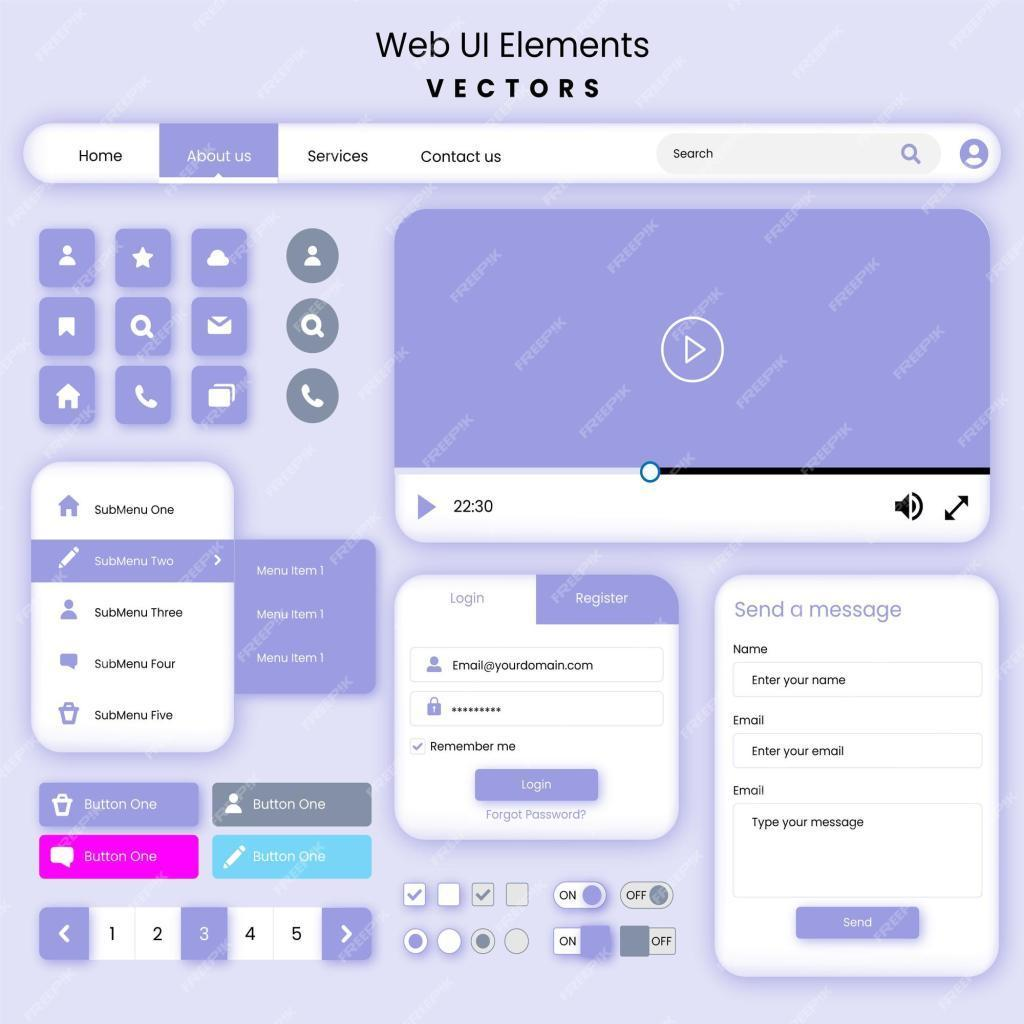button: (40, 835, 199, 881), (214, 835, 373, 881), (160, 124, 279, 184), (214, 783, 372, 828), (537, 575, 679, 625), (40, 783, 197, 827), (798, 907, 920, 942), (477, 770, 600, 802)
checkbox: (506, 885, 530, 909), (404, 884, 427, 907), (440, 884, 461, 907), (473, 884, 494, 907)
dropdown: (34, 539, 235, 582)
icon: (961, 137, 997, 179), (892, 491, 929, 525), (898, 139, 930, 176), (208, 382, 240, 410), (302, 313, 330, 345), (413, 492, 441, 524), (944, 492, 971, 525), (57, 380, 83, 413), (132, 385, 161, 414), (206, 315, 237, 339), (301, 383, 326, 411), (57, 492, 80, 522), (131, 314, 156, 341), (132, 246, 156, 271), (56, 653, 83, 675), (60, 697, 78, 730), (57, 315, 80, 339), (305, 245, 326, 271), (58, 242, 78, 268), (207, 247, 231, 268), (61, 599, 79, 623), (57, 922, 74, 946), (340, 923, 354, 946)
input: (659, 136, 941, 177), (411, 692, 665, 727), (411, 649, 666, 683), (736, 733, 982, 768), (735, 665, 985, 697)
label: (92, 605, 189, 623), (92, 501, 179, 520), (93, 657, 180, 673), (420, 149, 505, 165), (255, 562, 329, 580), (95, 708, 176, 724), (255, 652, 329, 667), (257, 607, 330, 622), (305, 149, 371, 164), (77, 147, 124, 168), (451, 590, 486, 611), (730, 714, 768, 731), (732, 784, 771, 800), (732, 644, 773, 659)
radio: (505, 928, 530, 956), (471, 929, 497, 955), (405, 929, 429, 956), (438, 931, 463, 956)
slider: (399, 462, 996, 482)
switch: (622, 927, 677, 956), (554, 928, 611, 955), (622, 881, 675, 910), (555, 882, 607, 910)
